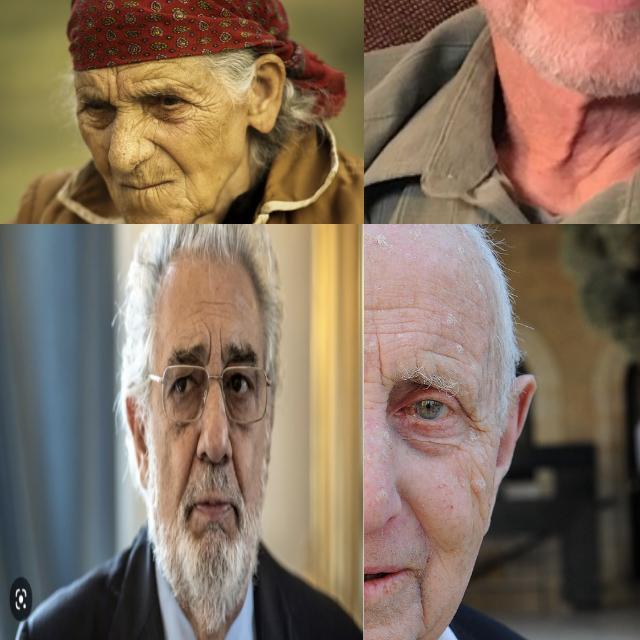bunny_line: (130, 111, 152, 132)
chin: (132, 191, 156, 205)
crows_feet: (465, 410, 491, 438), (193, 92, 213, 124)
forehead: (364, 295, 414, 327), (414, 336, 464, 368), (134, 70, 176, 86), (204, 294, 228, 312), (74, 78, 102, 92), (188, 301, 200, 329)
frown_line: (374, 338, 390, 392), (110, 80, 126, 110), (205, 326, 214, 366), (217, 327, 225, 361)
gummy_smile: (401, 496, 429, 530), (158, 142, 185, 168), (229, 445, 242, 489), (185, 440, 197, 485)
sad_smile: (408, 575, 430, 619), (181, 182, 199, 210)
